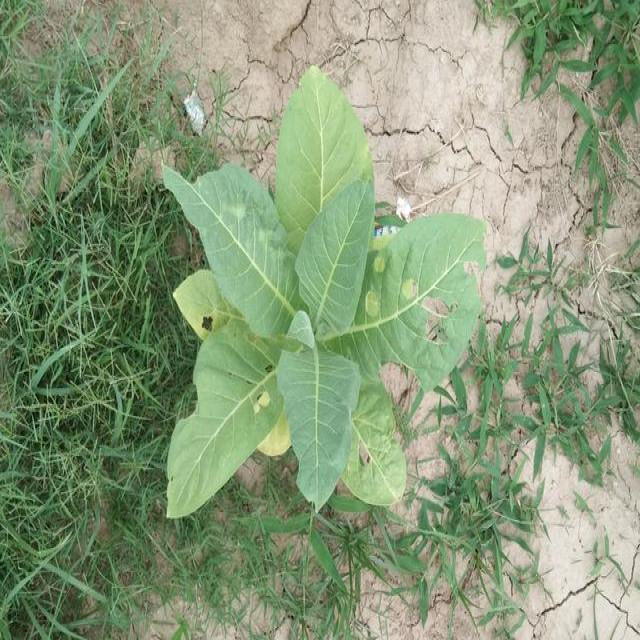crop: (158, 70, 492, 524)
